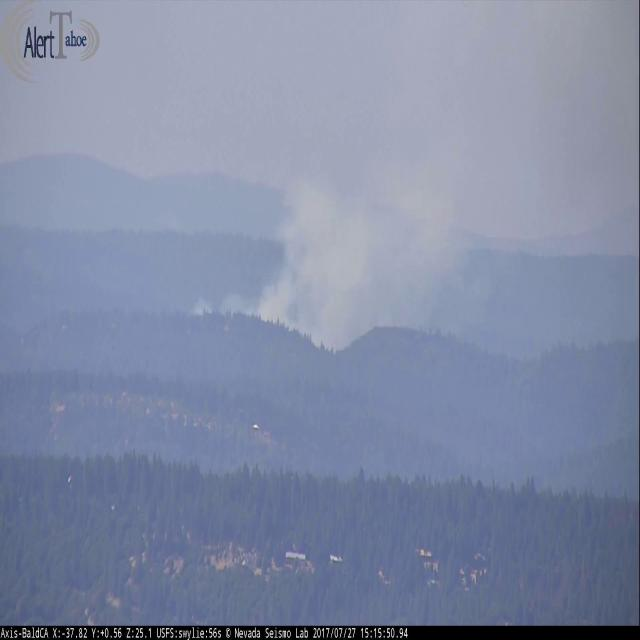smoke: (188, 84, 613, 352)
